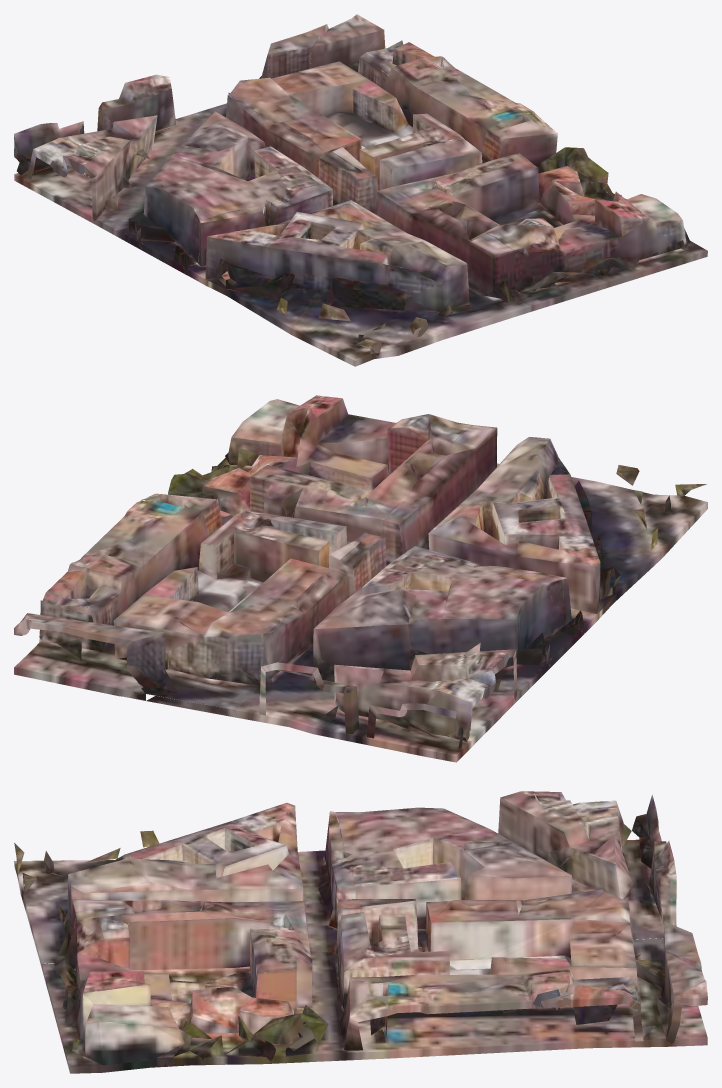
The picture shows the model from 3 angles, top to bottom: view 1: azimuth 30°, elevation 25°; view 2: azimuth 150°, elevation 25°; view 3: azimuth 270°, elevation 25°; orthographic projection. The views are drawn at different scales.
Visible parts, largest first — view 1: Mesh_0; view 2: Mesh_0; view 3: Mesh_0.
Part boxes in pixels (<box>): Mesh_0: <box>14,14,707,366</box>; Mesh_0: <box>14,395,707,762</box>; Mesh_0: <box>14,791,707,1073</box>.
Size of the model in its own units: 266 by 40.85 by 330.
Materials: 2 (2 with a texture image).
